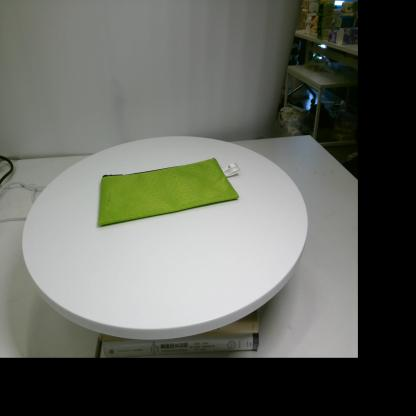Stationery: (98, 158, 241, 226)
